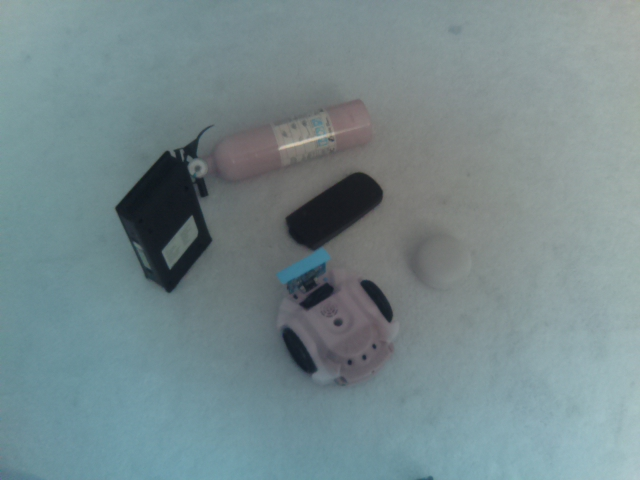board: (270, 246, 332, 292)
chassis: (272, 251, 398, 390)
